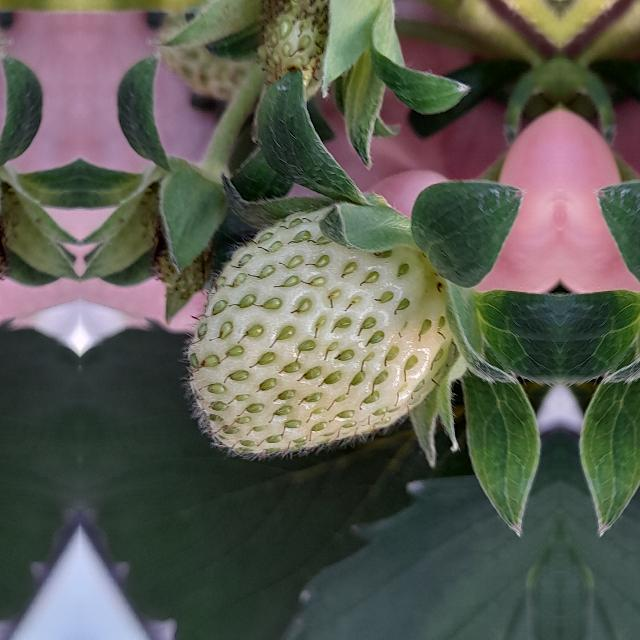Health_25: (177, 200, 447, 460)
